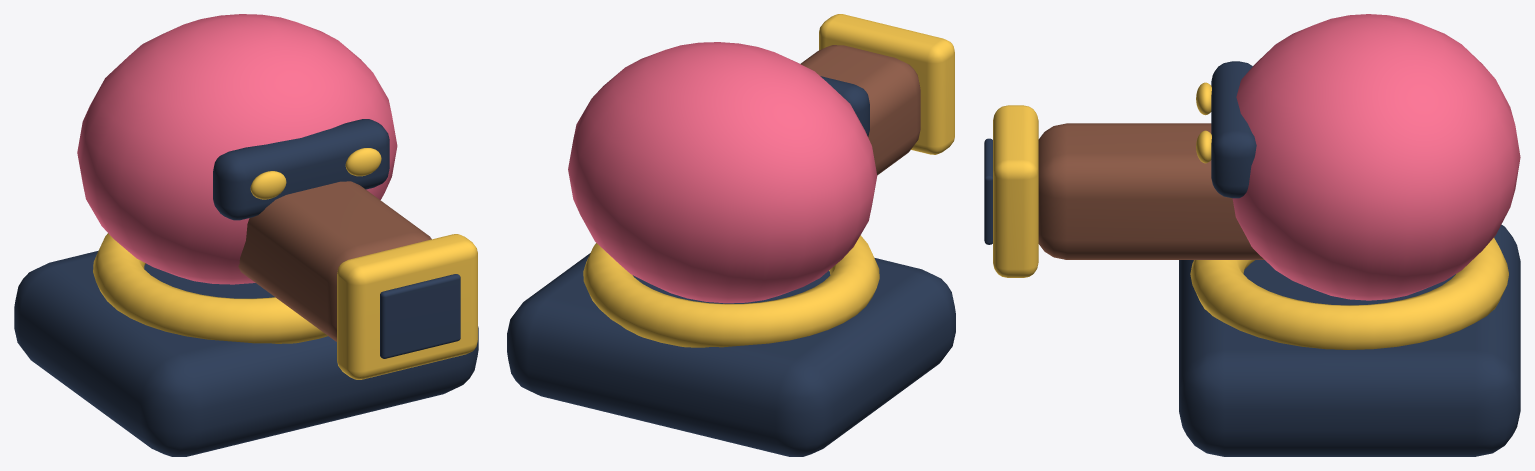
The model's file is cannon.glb.
The picture shows the model from 3 angles, left to right: view 1: azimuth 30°, elevation 25°; view 2: azimuth 150°, elevation 25°; view 3: azimuth 270°, elevation 25°; orthographic projection. The views are drawn at different scales.
Visible parts, largest first — view 1: Turret housing, Cannon plinth, Barrel, Muzzle rim, Torus.003, Cannon visor, Bore, Angry target eye, Angry target eye.001; view 2: Turret housing, Cannon plinth, Torus.003, Muzzle rim, Barrel, Cannon visor; view 3: Turret housing, Cannon plinth, Barrel, Torus.003, Muzzle rim, Cannon visor, Bore.
Part boxes in pixels (box(x1,y1,x2,y2)): Turret housing: box(77, 14, 397, 284); Cannon plinth: box(14, 250, 478, 456); Barrel: box(238, 181, 431, 341); Muzzle rim: box(337, 234, 477, 379); Torus.003: box(93, 233, 327, 343); Cannon visor: box(213, 119, 389, 220); Bore: box(380, 274, 460, 358); Angry target eye: box(250, 171, 286, 199); Angry target eye.001: box(345, 148, 381, 176); Turret housing: box(568, 42, 877, 303); Cannon plinth: box(507, 253, 955, 456); Torus.003: box(583, 235, 879, 347); Muzzle rim: box(819, 14, 954, 154); Barrel: box(800, 45, 920, 175); Cannon visor: box(820, 76, 869, 136); Turret housing: box(1232, 14, 1520, 300); Cannon plinth: box(1179, 224, 1520, 456); Barrel: box(1038, 123, 1264, 259); Torus.003: box(1190, 238, 1508, 349); Muzzle rim: box(993, 105, 1038, 277); Cannon visor: box(1211, 61, 1256, 198); Bore: box(984, 138, 992, 244).
Size of the model in its own units: 1.05 by 1.03 by 1.41.
